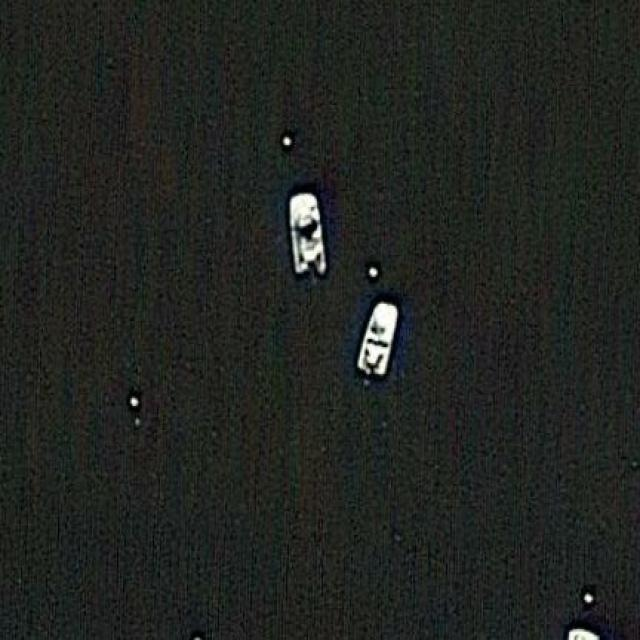ship: (354, 296, 406, 381), (288, 186, 330, 278)
